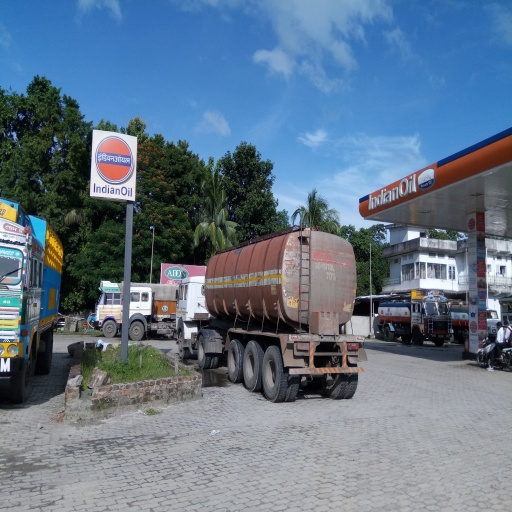roof: (359, 125, 511, 236)
